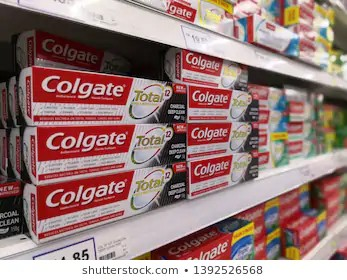colgate-medium: (20, 163, 191, 241), (21, 120, 188, 188), (20, 68, 185, 125), (192, 156, 258, 200), (189, 124, 259, 158), (186, 91, 258, 124), (168, 55, 251, 83)
